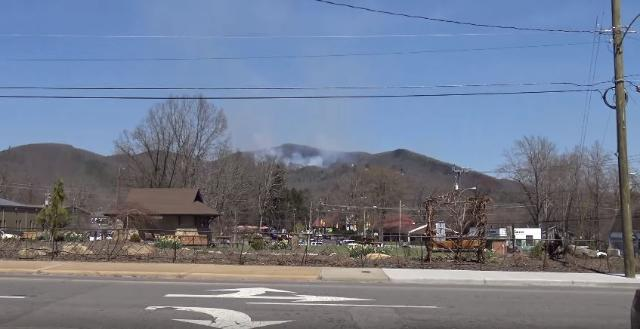smoke: (247, 137, 350, 170)
